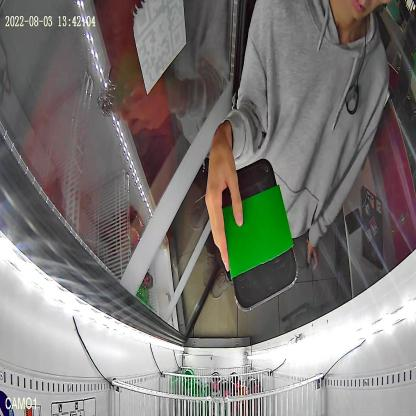green: (222, 159, 298, 312)
